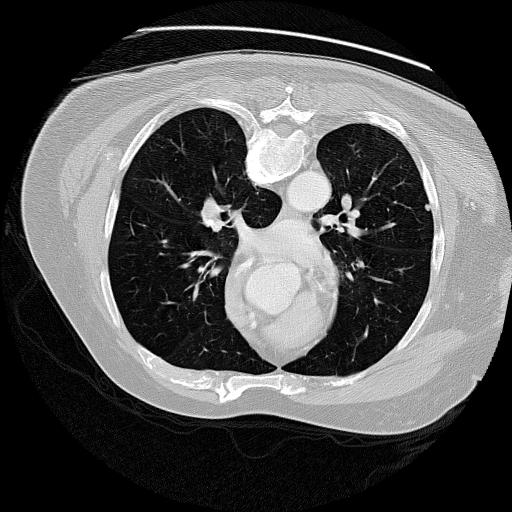nodule: (420, 202, 433, 215)
